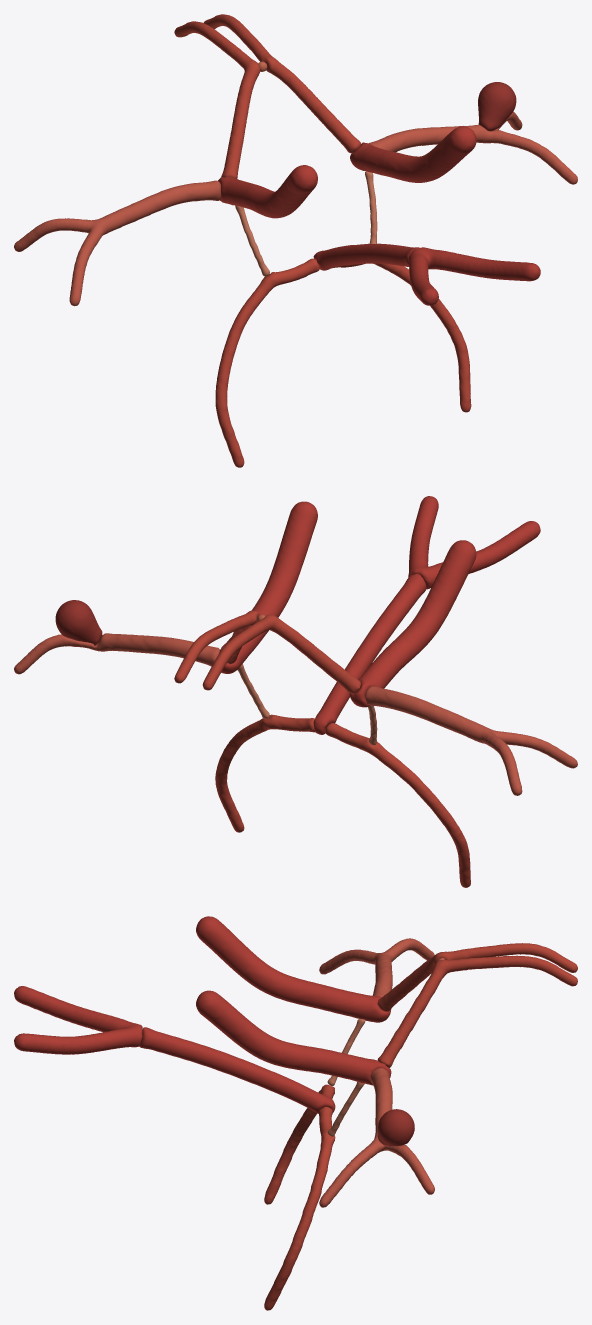
Rendered from willis_mca_aneurysm.glb.
3 views of the same model, one above another, from view 1: azimuth 30°, elevation 25°; view 2: azimuth 150°, elevation 25°; view 3: azimuth 270°, elevation 25° (orthographic). The views are drawn at different scales.
Parts seen in each view (by area): view 1: middle_cerebrals, internal_carotids, anterior_cerebrals, posterior_cerebrals, vertebral_arteries, basilar_artery, aneurysm, posterior_communicatings; view 2: internal_carotids, middle_cerebrals, posterior_cerebrals, anterior_cerebrals, basilar_artery, vertebral_arteries, aneurysm, posterior_communicatings; view 3: internal_carotids, anterior_cerebrals, middle_cerebrals, vertebral_arteries, basilar_artery, posterior_cerebrals, aneurysm, posterior_communicatings.
Boxes of the visible parts, x1,y1,x2,y2 form: middle_cerebrals: (14, 111, 577, 306); internal_carotids: (218, 126, 476, 218); anterior_cerebrals: (174, 14, 360, 178); posterior_cerebrals: (215, 258, 471, 467); vertebral_arteries: (408, 247, 540, 305); basilar_artery: (313, 243, 419, 270); aneurysm: (478, 82, 516, 131); posterior_communicatings: (235, 171, 377, 276); internal_carotids: (219, 501, 476, 707); middle_cerebrals: (14, 633, 577, 795); posterior_cerebrals: (215, 714, 470, 887); anterior_cerebrals: (174, 610, 360, 693); basilar_artery: (313, 573, 426, 734); vertebral_arteries: (408, 496, 540, 589); aneurysm: (55, 600, 102, 645); posterior_communicatings: (237, 664, 377, 745); internal_carotids: (196, 916, 391, 1085); anterior_cerebrals: (377, 943, 577, 1067); middle_cerebrals: (319, 938, 434, 1207); vertebral_arteries: (14, 986, 142, 1054); basilar_artery: (139, 1027, 335, 1113); posterior_cerebrals: (264, 1084, 335, 1310); aneurysm: (377, 1109, 414, 1146); posterior_communicatings: (327, 1018, 365, 1136).
Bounding box in the file's own units: 17.9 × 10.8 × 17.99.
